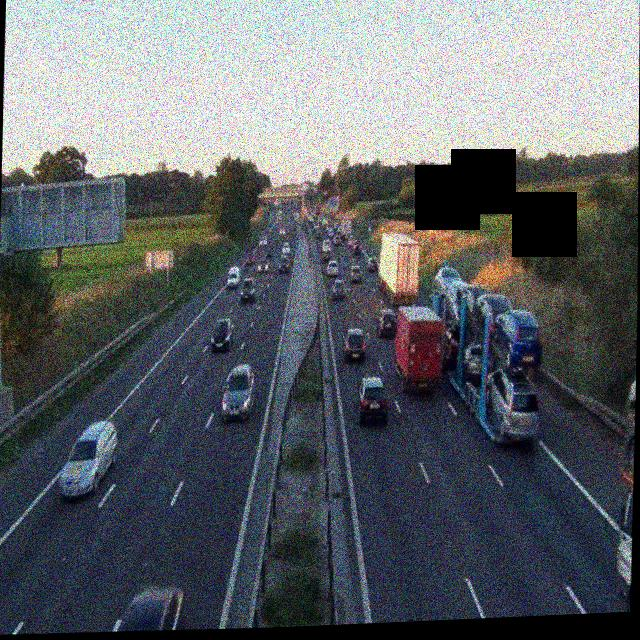car: (59, 419, 117, 501), (104, 582, 185, 633), (489, 307, 542, 378), (222, 364, 256, 420), (354, 375, 388, 425), (210, 314, 233, 353), (343, 326, 366, 361), (376, 307, 398, 338), (239, 278, 255, 303), (227, 266, 241, 289), (331, 278, 344, 299), (257, 256, 270, 274), (350, 263, 362, 281), (277, 254, 289, 272), (326, 259, 338, 275), (280, 242, 291, 258), (245, 251, 256, 266), (366, 256, 376, 271), (322, 244, 332, 258), (351, 240, 361, 253), (257, 237, 265, 249)
truck: (613, 379, 635, 613), (389, 303, 445, 392), (430, 276, 481, 350), (378, 233, 420, 310)
